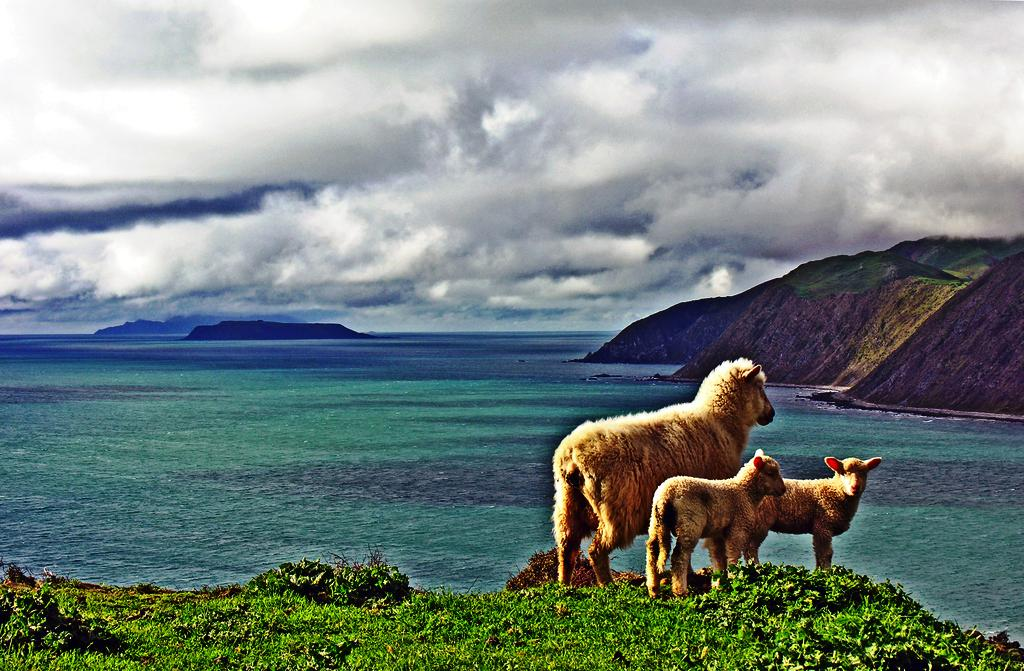Sheep: (550, 359, 772, 588), (639, 445, 786, 599), (702, 454, 882, 574)
